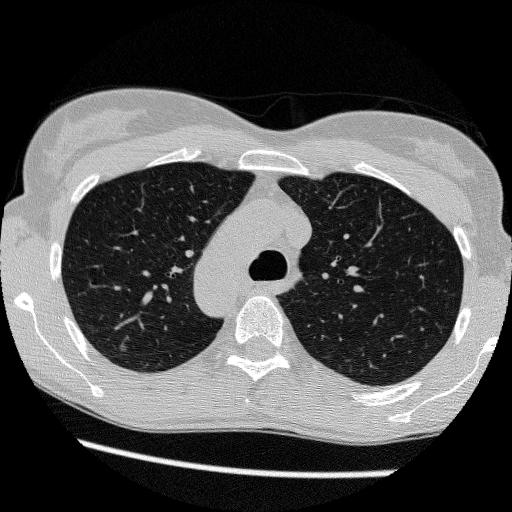nodule: (118, 342, 132, 356)
